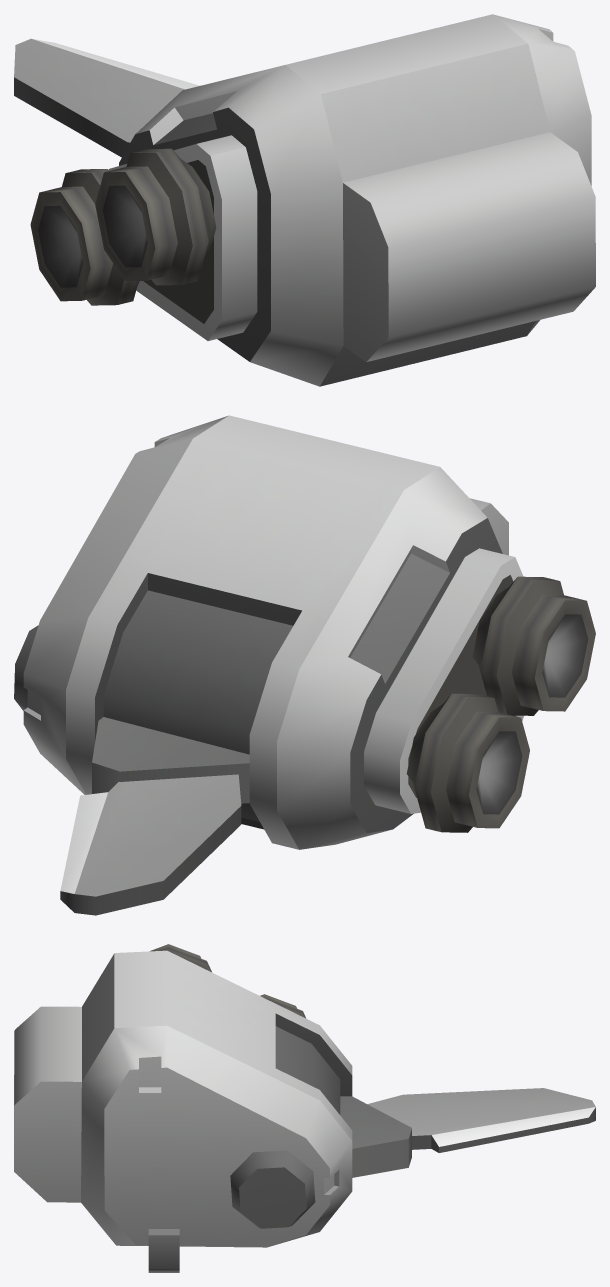
Rendered from Jet1L.fbx.
The picture shows the model from 3 angles, top to bottom: view 1: azimuth 30°, elevation 25°; view 2: azimuth 150°, elevation 25°; view 3: azimuth 270°, elevation 25°; orthographic projection. The views are drawn at different scales.
Visible parts, largest first — view 1: Jet1L.005, Jet1L.010, Jet1L.0, Jet1L.006, Jet1L.001, Jet1L.007, Jet1L.009, Jet1L.004, Jet1L.008; view 2: Jet1L.0, Jet1L.010, Jet1L.001, Jet1L.004, Jet1L.007, Jet1L.006, Jet1L.009, Jet1L.011, Jet1L.008, Jet1L.002, Jet1L.005; view 3: Jet1L.004, Jet1L.0, Jet1L.005, Jet1L.001, Jet1L.002, Jet1L.011, Jet1L.003, Jet1L.006.
Part boxes in pixels (x1,y1,x2,y2): Jet1L.005: (343, 132, 595, 362); Jet1L.010: (119, 65, 343, 386); Jet1L.0: (285, 14, 549, 386); Jet1L.006: (95, 148, 216, 285); Jet1L.001: (14, 38, 199, 157); Jet1L.007: (30, 169, 139, 305); Jet1L.009: (197, 135, 257, 340); Jet1L.004: (493, 14, 591, 334); Jet1L.008: (108, 144, 221, 340); Jet1L.0: (66, 415, 439, 849); Jet1L.010: (277, 467, 502, 849); Jet1L.001: (60, 774, 241, 915); Jet1L.004: (23, 415, 228, 794); Jet1L.007: (406, 693, 529, 832); Jet1L.006: (472, 576, 595, 715); Jet1L.009: (364, 548, 514, 813); Jet1L.011: (92, 717, 249, 803); Jet1L.008: (400, 557, 523, 813); Jet1L.002: (14, 625, 38, 710); Jet1L.005: (469, 498, 508, 555); Jet1L.004: (81, 1025, 352, 1247); Jet1L.0: (82, 950, 352, 1186); Jet1L.005: (14, 1006, 81, 1202); Jet1L.001: (367, 1088, 595, 1152); Jet1L.002: (230, 1150, 315, 1228); Jet1L.011: (340, 1096, 411, 1177); Jet1L.003: (148, 1229, 179, 1272); Jet1L.006: (150, 944, 211, 972).
Bounding box in the file's own units: 1.44 × 0.9259 × 2.18.
